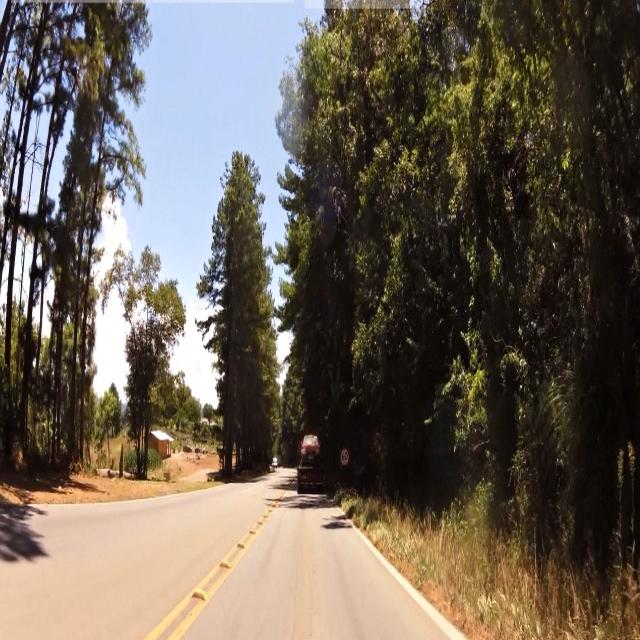R-19: (340, 449, 350, 467)
